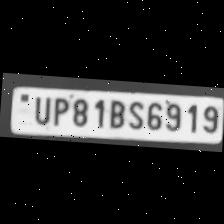1: (180, 102, 200, 134), (89, 97, 107, 129)
6: (143, 99, 163, 131)
8: (67, 96, 91, 128)
9: (198, 102, 222, 134), (162, 100, 182, 132)
B: (104, 97, 125, 129)
P: (48, 94, 70, 127)
S: (124, 97, 144, 130)
U: (29, 93, 51, 125)
